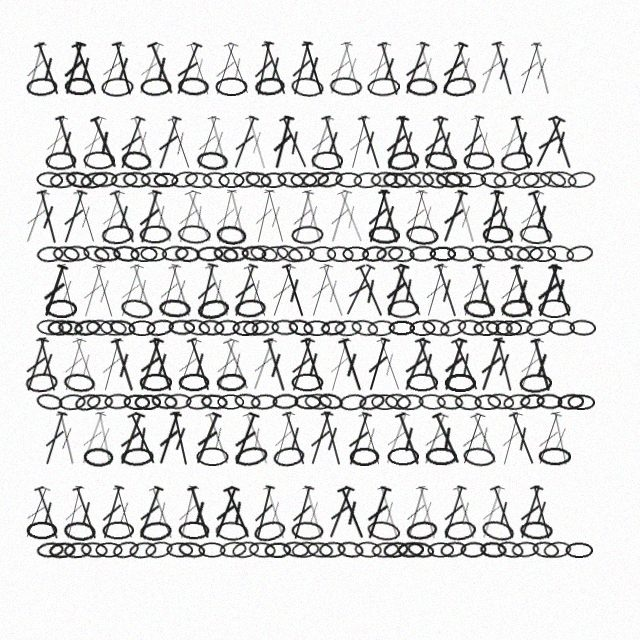chain: (480, 518, 516, 544), (252, 518, 287, 544), (233, 444, 269, 469), (423, 149, 458, 173), (119, 297, 154, 321), (366, 519, 401, 543), (196, 297, 230, 321), (442, 75, 477, 98), (386, 149, 420, 172), (272, 445, 306, 468), (405, 519, 439, 542), (443, 519, 477, 542), (290, 76, 325, 98), (120, 149, 153, 172), (405, 224, 439, 246), (462, 298, 496, 320), (462, 446, 496, 468), (274, 242, 305, 266), (196, 150, 229, 172), (500, 150, 533, 172), (215, 224, 248, 246), (63, 372, 96, 394), (63, 520, 96, 542), (139, 520, 172, 542), (329, 76, 363, 97), (177, 224, 211, 245), (519, 224, 553, 245), (519, 520, 553, 541), (177, 76, 210, 97), (101, 224, 134, 245), (158, 298, 191, 319), (234, 298, 267, 319), (500, 298, 533, 319), (25, 372, 58, 393), (438, 316, 468, 339), (120, 447, 154, 467), (215, 521, 249, 541), (254, 76, 286, 97), (101, 77, 134, 97), (367, 77, 400, 97), (420, 169, 450, 191), (291, 225, 324, 245), (81, 243, 111, 265), (519, 373, 552, 393), (73, 391, 103, 413), (357, 391, 387, 413), (291, 521, 324, 541), (26, 77, 58, 97), (140, 77, 172, 97), (406, 77, 438, 97), (45, 151, 77, 171), (463, 151, 495, 171), (368, 225, 400, 245), (387, 299, 419, 319), (315, 169, 345, 190), (548, 169, 578, 190), (249, 243, 279, 264), (145, 317, 175, 338), (421, 317, 451, 338), (111, 539, 141, 560), (144, 539, 174, 560), (215, 77, 248, 96), (139, 225, 172, 244), (538, 299, 571, 318), (139, 373, 172, 392), (291, 373, 324, 392), (196, 447, 229, 466), (538, 447, 571, 466), (83, 447, 114, 467), (64, 169, 93, 190), (170, 169, 199, 190), (538, 169, 567, 190), (503, 243, 532, 264), (546, 243, 575, 264), (182, 317, 211, 338), (525, 317, 554, 338), (316, 391, 345, 412), (231, 539, 260, 560), (496, 539, 525, 560), (83, 151, 115, 170), (311, 151, 343, 170), (482, 225, 514, 244), (45, 299, 77, 318), (178, 373, 210, 392), (406, 373, 438, 392), (444, 373, 476, 392), (387, 447, 419, 466), (425, 447, 457, 466), (26, 521, 58, 540), (102, 521, 134, 540), (178, 521, 210, 540), (79, 170, 109, 190), (511, 170, 541, 190), (338, 392, 368, 412), (502, 392, 532, 412), (128, 540, 158, 560), (64, 77, 95, 96), (216, 373, 247, 392), (349, 447, 380, 466), (287, 317, 315, 338), (244, 170, 273, 190), (276, 170, 305, 190), (479, 170, 508, 190), (375, 244, 404, 264), (108, 318, 137, 338), (350, 318, 379, 338), (35, 392, 64, 412), (177, 540, 206, 560), (406, 540, 435, 560), (212, 244, 240, 264), (232, 170, 261, 189), (301, 170, 330, 189), (444, 170, 473, 189), (567, 170, 596, 189), (467, 244, 496, 263), (565, 244, 594, 263), (150, 392, 179, 411), (233, 392, 262, 411), (486, 392, 515, 411), (291, 540, 320, 559), (336, 540, 365, 559), (439, 540, 468, 559), (531, 540, 560, 559), (543, 540, 572, 559), (407, 170, 435, 189), (435, 170, 463, 189), (493, 170, 521, 189), (112, 244, 140, 263), (486, 244, 514, 263), (73, 318, 101, 337), (242, 318, 270, 337), (457, 318, 485, 337), (505, 318, 533, 337), (384, 392, 412, 411), (219, 540, 247, 559), (282, 540, 310, 559), (382, 540, 410, 559), (140, 171, 169, 189), (184, 171, 213, 189), (353, 171, 382, 189), (393, 171, 422, 189), (251, 319, 280, 337), (367, 319, 396, 337), (63, 541, 92, 559), (371, 541, 400, 559), (361, 244, 388, 263), (519, 392, 546, 411), (49, 171, 77, 189), (110, 171, 138, 189), (202, 171, 230, 189), (36, 245, 64, 263), (52, 245, 80, 263), (93, 245, 121, 263), (222, 245, 250, 263), (261, 245, 289, 263), (287, 245, 315, 263), (326, 245, 354, 263), (387, 245, 415, 263), (99, 319, 127, 337), (334, 319, 362, 337), (485, 319, 513, 337), (58, 393, 86, 411), (86, 393, 114, 411), (185, 393, 213, 411), (200, 393, 228, 411), (250, 393, 278, 411), (396, 393, 424, 411), (418, 393, 446, 411), (436, 393, 464, 411), (454, 393, 482, 411), (36, 541, 64, 559), (48, 541, 76, 559), (80, 541, 108, 559), (248, 541, 276, 559), (306, 541, 334, 559), (122, 171, 151, 188), (511, 541, 540, 558), (382, 171, 409, 189), (174, 245, 201, 263), (57, 319, 84, 337), (320, 319, 347, 337), (370, 171, 398, 188), (161, 245, 189, 262), (516, 245, 544, 262), (36, 319, 64, 336), (213, 319, 241, 336), (164, 393, 192, 410), (304, 393, 332, 410), (318, 541, 346, 558), (354, 541, 382, 558), (479, 541, 507, 558), (36, 171, 63, 188), (91, 171, 118, 188), (63, 245, 90, 262), (409, 245, 436, 262), (447, 245, 474, 262), (86, 319, 113, 336), (168, 319, 195, 336), (198, 319, 225, 336), (271, 319, 298, 336), (548, 319, 575, 336), (569, 319, 596, 336), (104, 393, 131, 410), (272, 393, 299, 410), (536, 393, 563, 410), (557, 393, 584, 410), (397, 541, 424, 558), (460, 541, 487, 558), (523, 172, 551, 188), (130, 246, 158, 262), (128, 320, 156, 336), (567, 394, 595, 410), (95, 542, 123, 558), (198, 542, 226, 558), (565, 542, 593, 558), (241, 245, 267, 262), (47, 319, 73, 336), (218, 172, 245, 188), (260, 172, 287, 188), (290, 172, 317, 188), (335, 172, 362, 188), (459, 172, 486, 188), (140, 246, 167, 262), (196, 246, 223, 262), (309, 246, 336, 262), (342, 246, 369, 262), (429, 246, 456, 262), (529, 246, 556, 262), (232, 320, 259, 336), (303, 320, 330, 336), (388, 320, 415, 336), (409, 320, 436, 336), (473, 320, 500, 336), (495, 320, 522, 336), (123, 394, 150, 410), (134, 394, 161, 410), (217, 394, 244, 410), (294, 394, 321, 410), (371, 394, 398, 410), (474, 394, 501, 410), (166, 542, 193, 558), (264, 542, 291, 558), (427, 542, 454, 558), (153, 172, 179, 188)
double: (528, 114, 569, 171), (339, 262, 379, 319), (351, 262, 390, 320), (275, 114, 314, 171), (389, 262, 428, 319), (397, 336, 435, 394), (333, 484, 371, 542), (447, 336, 485, 393), (124, 410, 162, 467), (428, 410, 466, 467), (466, 410, 504, 467), (219, 484, 257, 541), (67, 40, 104, 98), (169, 40, 206, 98), (416, 410, 453, 468), (143, 40, 180, 97), (219, 40, 256, 97), (435, 40, 472, 97), (86, 114, 123, 171), (181, 188, 218, 245), (333, 188, 370, 245), (219, 336, 256, 393), (30, 40, 66, 98), (113, 114, 149, 172), (18, 188, 54, 246), (106, 188, 142, 246), (315, 262, 351, 320), (68, 336, 104, 394), (170, 336, 206, 394), (512, 336, 548, 394), (113, 410, 149, 468), (227, 410, 263, 468), (391, 410, 427, 468), (30, 484, 66, 542), (68, 484, 104, 542), (144, 484, 180, 542), (132, 40, 168, 97), (512, 188, 548, 245), (189, 410, 225, 467), (239, 410, 275, 467), (505, 410, 541, 467), (18, 484, 54, 541), (208, 484, 244, 541), (322, 484, 358, 541), (182, 40, 217, 98), (208, 40, 243, 98), (151, 114, 186, 172), (163, 114, 198, 172), (417, 114, 452, 172), (429, 114, 464, 172), (56, 188, 91, 246), (94, 188, 129, 246), (486, 188, 521, 246), (524, 188, 559, 246), (37, 262, 72, 320), (113, 262, 148, 320), (239, 262, 274, 320), (265, 262, 300, 320), (493, 262, 528, 320), (531, 262, 566, 320), (284, 336, 319, 394), (334, 336, 369, 394), (474, 336, 509, 394), (341, 410, 376, 468), (455, 410, 490, 468), (531, 410, 566, 468), (360, 484, 395, 542), (94, 40, 129, 97), (258, 40, 293, 97), (398, 40, 433, 97), (474, 40, 509, 97), (227, 114, 262, 171), (467, 114, 502, 171), (493, 114, 528, 171), (144, 188, 179, 245), (436, 188, 471, 245), (201, 262, 236, 319), (227, 262, 262, 319), (246, 336, 281, 393), (372, 336, 407, 393), (75, 410, 110, 467), (201, 410, 236, 467), (379, 410, 414, 467), (132, 484, 167, 541), (486, 484, 521, 541), (171, 188, 205, 246), (76, 262, 110, 320), (164, 262, 198, 320), (506, 262, 540, 320), (19, 336, 53, 394), (107, 336, 141, 394), (145, 336, 179, 394), (209, 336, 243, 394), (259, 336, 293, 394), (354, 410, 388, 468), (323, 40, 357, 97), (361, 40, 395, 97), (38, 114, 72, 171), (76, 114, 110, 171), (126, 114, 160, 171), (190, 114, 224, 171), (304, 114, 338, 171), (544, 114, 578, 171), (126, 262, 160, 319), (430, 262, 464, 319), (544, 262, 578, 319), (133, 336, 167, 393), (183, 336, 217, 393), (411, 336, 445, 393), (437, 336, 471, 393), (152, 410, 186, 467), (278, 410, 312, 467), (475, 484, 509, 541), (513, 484, 547, 541), (373, 40, 406, 98), (380, 114, 413, 172), (133, 188, 166, 246), (88, 262, 121, 320), (57, 336, 90, 394), (323, 336, 356, 394), (513, 40, 546, 97), (354, 114, 387, 171), (392, 114, 425, 171), (69, 188, 102, 245), (411, 188, 444, 245), (278, 262, 311, 319), (304, 262, 337, 319), (380, 262, 413, 319), (456, 262, 489, 319), (468, 262, 501, 319), (297, 336, 330, 393), (38, 410, 71, 467), (304, 410, 337, 467), (183, 484, 216, 541), (259, 484, 292, 541), (373, 484, 406, 541), (437, 484, 470, 541), (449, 484, 482, 541), (343, 114, 375, 172), (32, 188, 64, 246), (286, 188, 318, 246), (476, 188, 508, 246), (96, 336, 128, 394), (526, 336, 558, 394), (495, 410, 527, 468), (286, 484, 318, 542), (58, 40, 90, 97), (298, 40, 330, 97), (336, 40, 368, 97), (412, 40, 444, 97), (450, 40, 482, 97), (51, 114, 83, 171), (203, 114, 235, 171), (241, 114, 273, 171), (317, 114, 349, 171), (324, 188, 356, 245), (362, 188, 394, 245), (450, 188, 482, 245), (153, 262, 185, 319), (419, 262, 451, 319), (362, 336, 394, 393), (267, 410, 299, 467), (96, 484, 128, 541), (108, 484, 140, 541), (298, 484, 330, 541), (400, 484, 432, 541), (20, 40, 51, 97), (108, 40, 139, 97), (286, 40, 317, 97), (488, 40, 519, 97), (526, 40, 557, 97), (507, 114, 538, 171), (210, 188, 241, 245), (260, 188, 291, 245), (298, 188, 329, 245), (374, 188, 405, 245), (400, 188, 431, 245), (191, 262, 222, 319), (32, 336, 63, 393), (51, 410, 82, 467), (317, 410, 348, 467), (172, 484, 203, 541), (412, 484, 443, 541), (526, 484, 557, 541), (268, 114, 298, 171), (458, 114, 488, 171), (223, 188, 253, 245), (249, 188, 279, 245), (52, 262, 82, 319), (489, 336, 519, 393), (249, 484, 279, 541), (249, 40, 278, 97), (166, 410, 195, 467), (546, 410, 575, 467), (59, 484, 88, 541), (91, 410, 119, 467)
